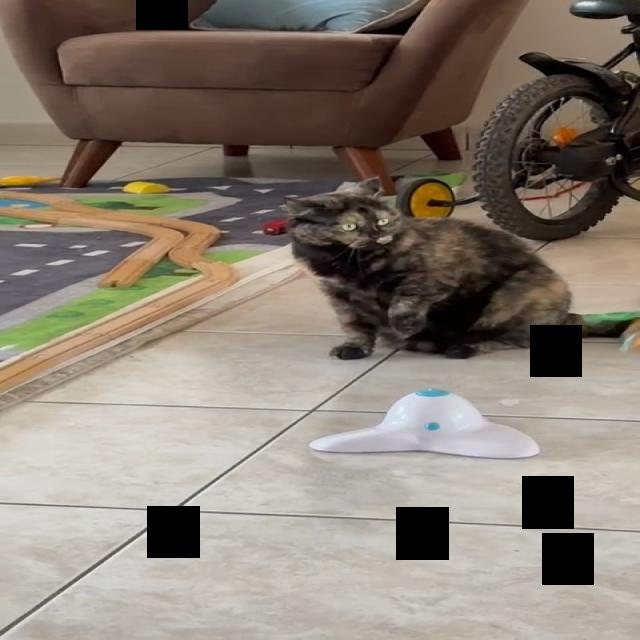authorized: (280, 175, 637, 360)
